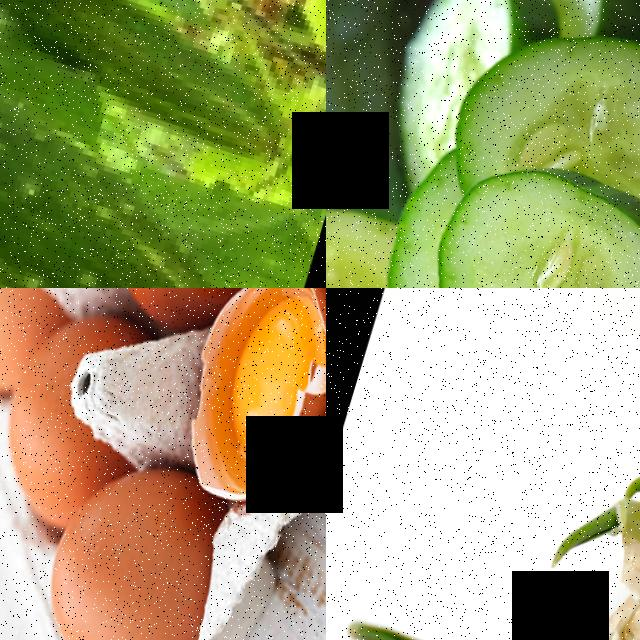cucumber: (0, 0, 316, 288), (0, 0, 301, 146), (449, 0, 640, 230), (401, 146, 640, 288), (326, 0, 435, 288)
egg_: (20, 447, 238, 640), (210, 288, 326, 462), (76, 288, 273, 337)
